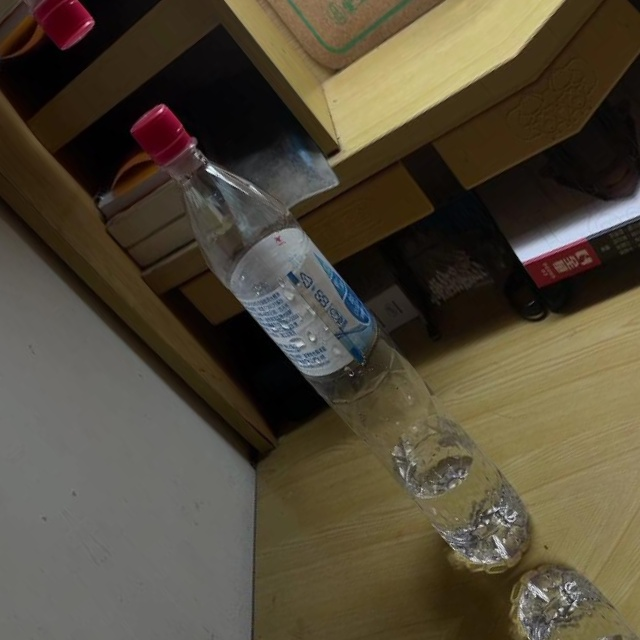Water: (105, 82, 559, 598)
